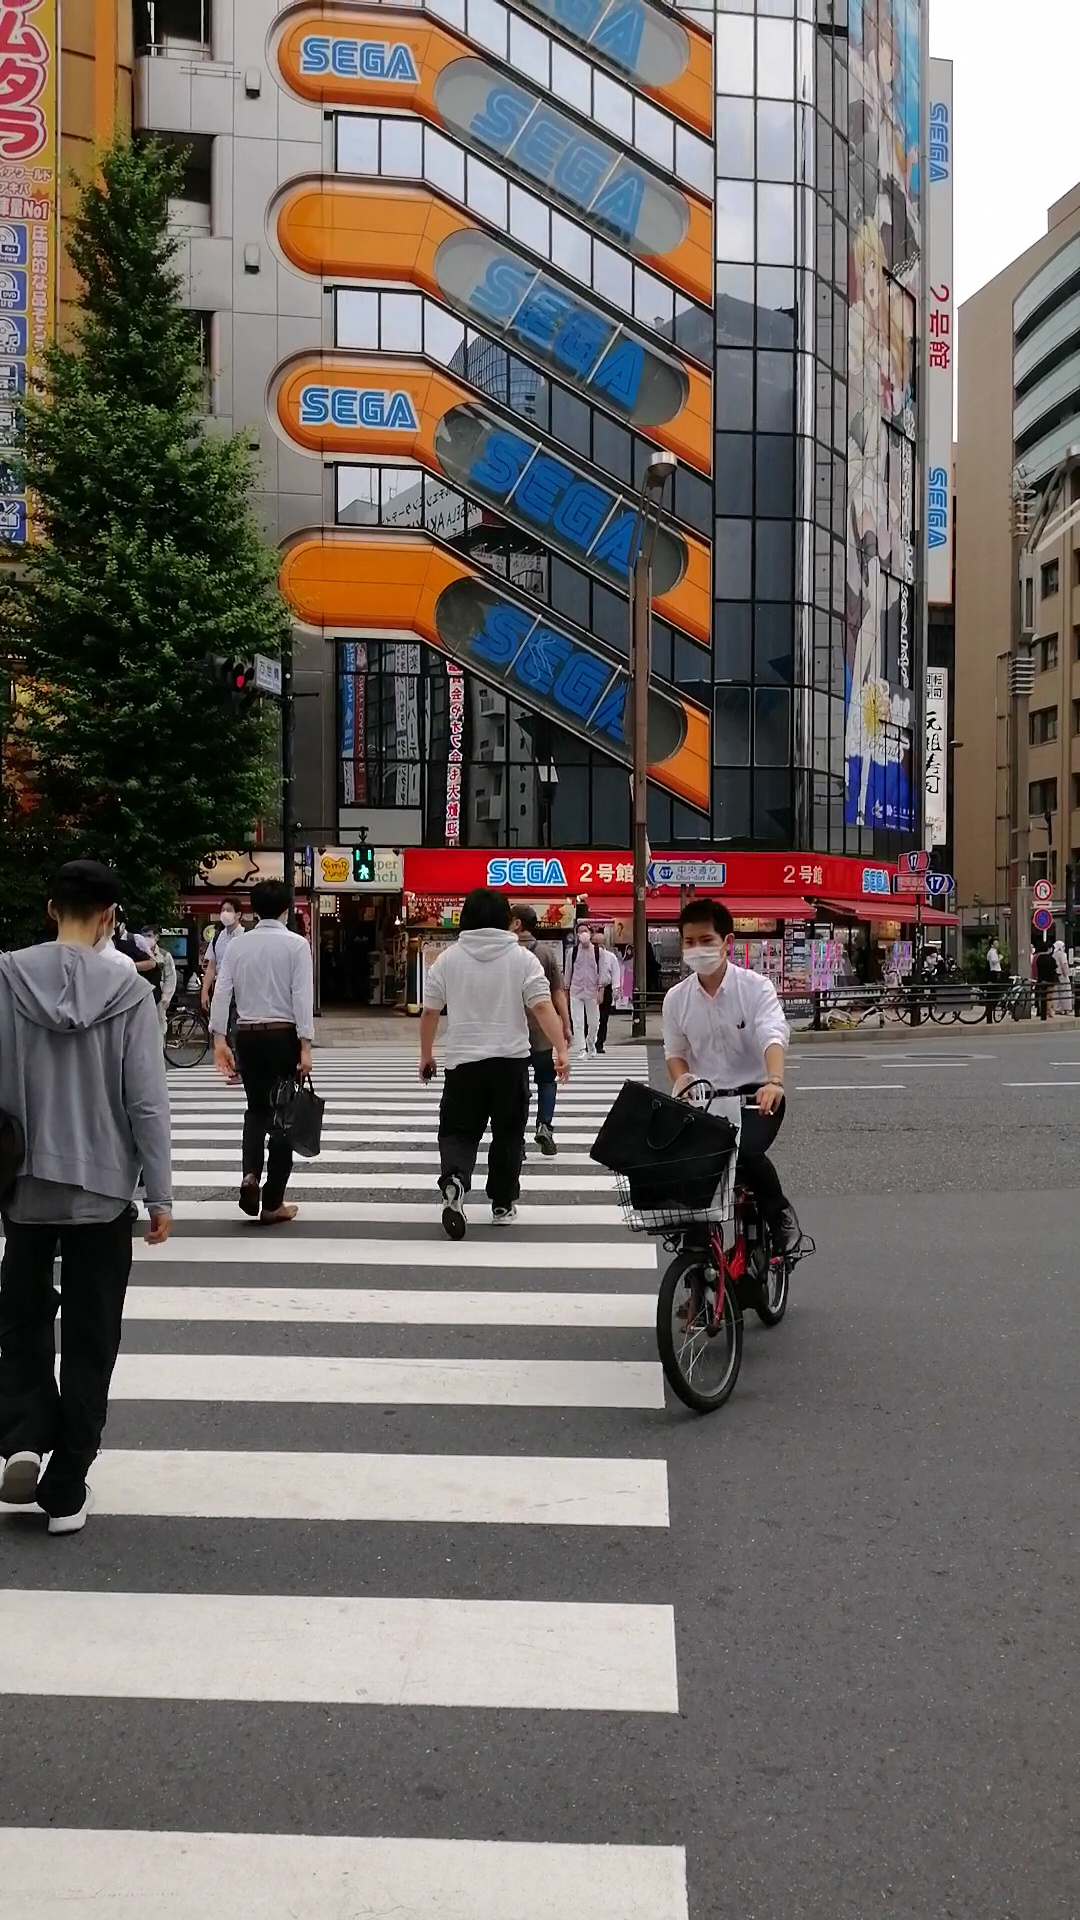green: (352, 843, 375, 882)
